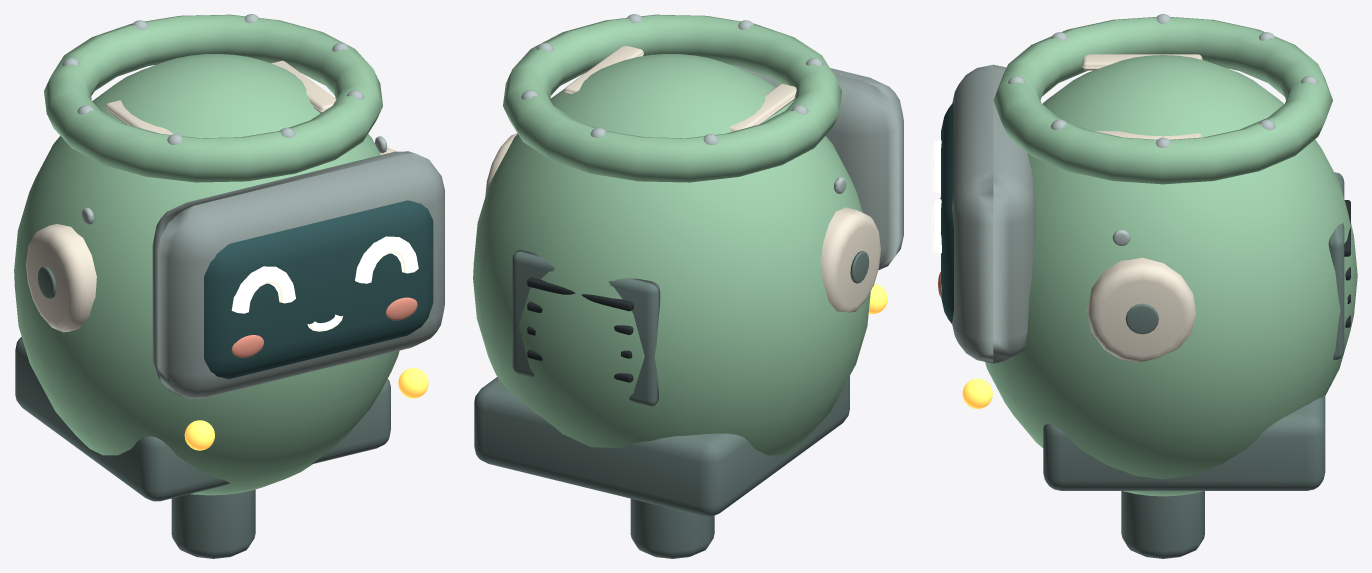
Rendered from spin-bot.glb.
The picture shows the model from 3 angles, left to right: view 1: azimuth 30°, elevation 25°; view 2: azimuth 150°, elevation 25°; view 3: azimuth 270°, elevation 25°; orthographic projection.
Visible parts, largest first — view 1: robot_green_paint, robot_brushed_bezel, robot_screen, robot_warm_steel, robot_warm_cream, robot_face_glow, robot_signal_glass, robot_machined_alloy, robot_apricot_blush; view 2: robot_green_paint, robot_warm_steel, robot_brushed_bezel, robot_warm_cream, robot_graphite_rubber, robot_machined_alloy; view 3: robot_green_paint, robot_brushed_bezel, robot_warm_steel, robot_warm_cream, robot_screen, robot_machined_alloy, robot_face_glow, robot_signal_glass.
Part boxes in pixels (<box>): robot_green_paint: <box>14,14,399,495</box>; robot_brushed_bezel: <box>152,151,444,398</box>; robot_screen: <box>204,200,433,378</box>; robot_warm_steel: <box>15,266,390,558</box>; robot_warm_cream: <box>26,60,396,332</box>; robot_face_glow: <box>231,236,418,331</box>; robot_signal_glass: <box>184,368,428,450</box>; robot_machined_alloy: <box>62,14,387,224</box>; robot_apricot_blush: <box>231,297,417,357</box>; robot_green_paint: <box>473,14,870,455</box>; robot_warm_steel: <box>474,250,869,558</box>; robot_brushed_bezel: <box>731,65,903,270</box>; robot_warm_cream: <box>485,46,880,312</box>; robot_graphite_rubber: <box>527,277,633,382</box>; robot_machined_alloy: <box>521,14,846,193</box>; robot_green_paint: <box>985,17,1357,496</box>; robot_brushed_bezel: <box>952,64,1035,363</box>; robot_warm_steel: <box>1043,172,1344,558</box>; robot_warm_cream: <box>1082,54,1202,362</box>; robot_screen: <box>941,103,953,323</box>; robot_machined_alloy: <box>1008,14,1318,246</box>; robot_face_glow: <box>932,139,941,253</box>; robot_signal_glass: <box>962,378,992,408</box>.
Size of the model in its own units: 0.786 by 1 by 0.814.
